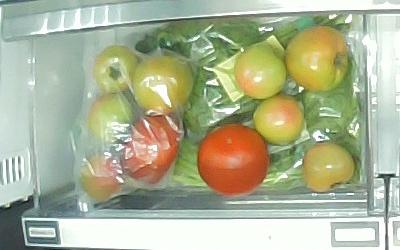tomato: (198, 124, 269, 195), (285, 26, 348, 91), (234, 43, 286, 99), (253, 95, 304, 145), (304, 143, 355, 191)
tomato_vinyl: (120, 115, 181, 185), (134, 57, 193, 113), (79, 151, 126, 202), (94, 46, 141, 93), (89, 93, 135, 141)
